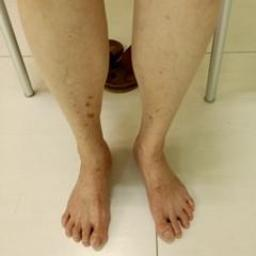Dorsal View -Both Feet-: (44, 114, 207, 253)
